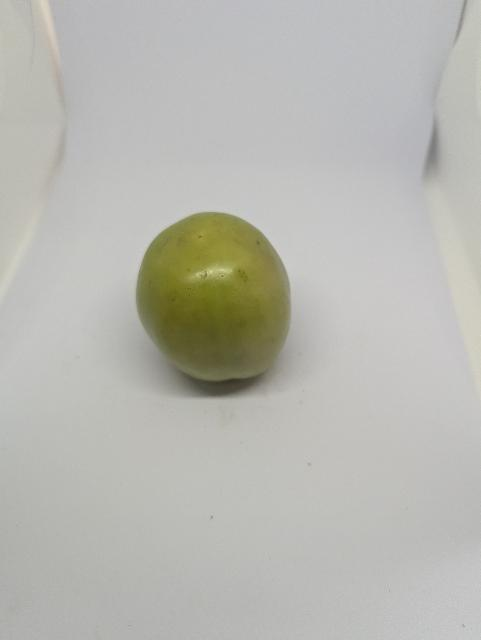green: (122, 206, 304, 397)
